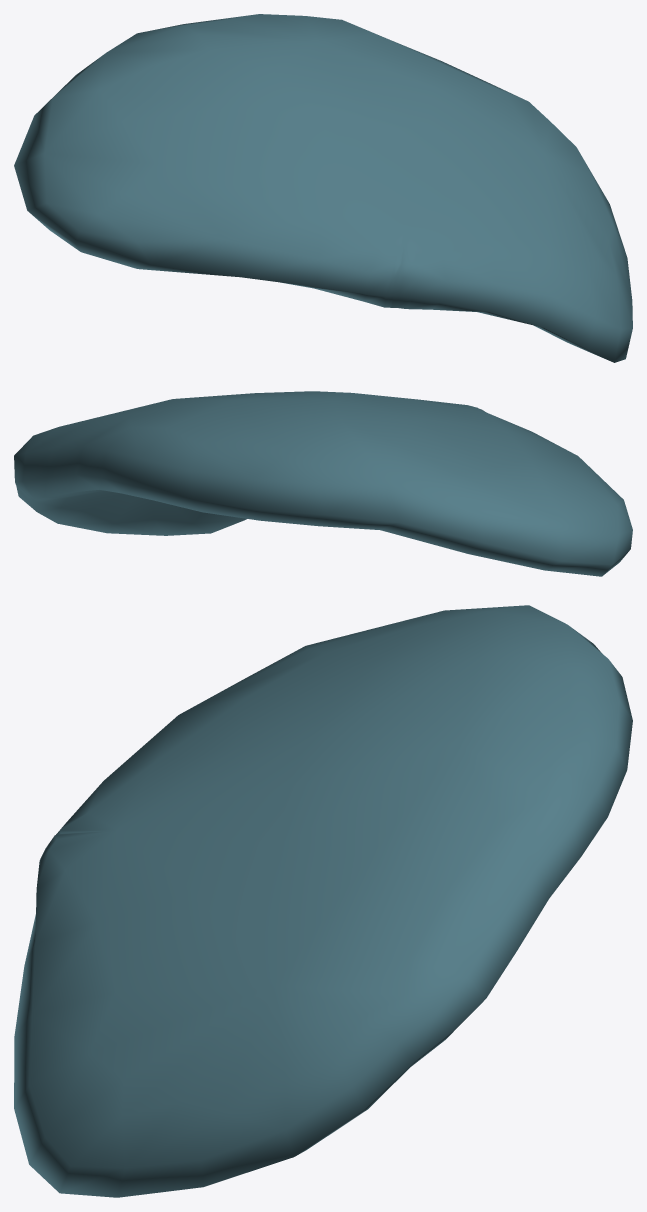
The model's file is Extensor_digitorum_longus_&_brevis_on_3d_middle_phalanx.r_Gener.glb.
The picture shows the model from 3 angles, top to bottom: view 1: azimuth 30°, elevation 25°; view 2: azimuth 150°, elevation 25°; view 3: azimuth 270°, elevation 25°; orthographic projection. The views are drawn at different scales.
Visible parts, largest first — view 1: Extensor_digitorum_longus_&_brevis_on_3d_middle_phalanx.r_Ge; view 2: Extensor_digitorum_longus_&_brevis_on_3d_middle_phalanx.r_Ge; view 3: Extensor_digitorum_longus_&_brevis_on_3d_middle_phalanx.r_Ge.
Part boxes in pixels (bbox=[...]): Extensor_digitorum_longus_&_brevis_on_3d_middle_phalanx.r_Ge: bbox=[14, 14, 632, 362]; Extensor_digitorum_longus_&_brevis_on_3d_middle_phalanx.r_Ge: bbox=[14, 391, 632, 576]; Extensor_digitorum_longus_&_brevis_on_3d_middle_phalanx.r_Ge: bbox=[14, 605, 632, 1197].
Bounding box in the file's own units: 0.00493 × 0.0023 × 0.00359.
